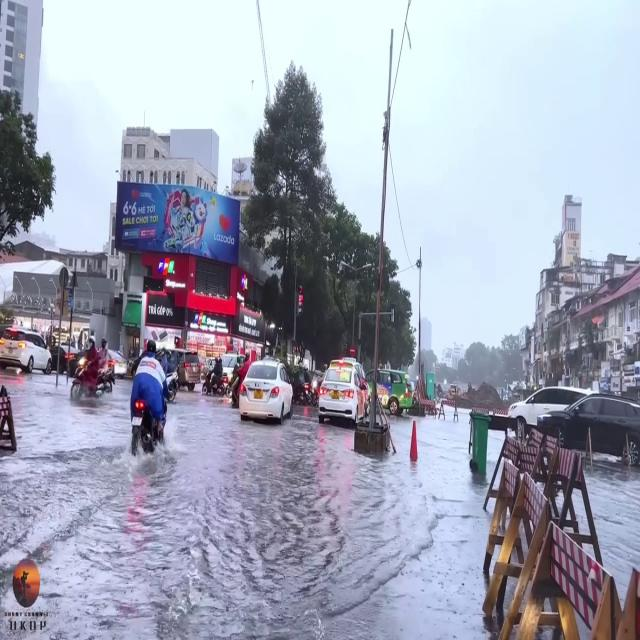bien_vang: (331, 389, 340, 400), (253, 390, 262, 400)
